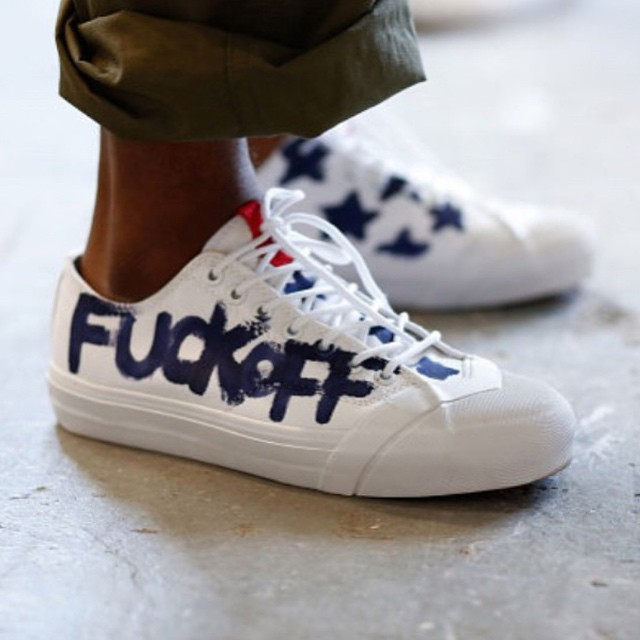sneaker: (12, 101, 598, 513), (226, 98, 613, 322)
